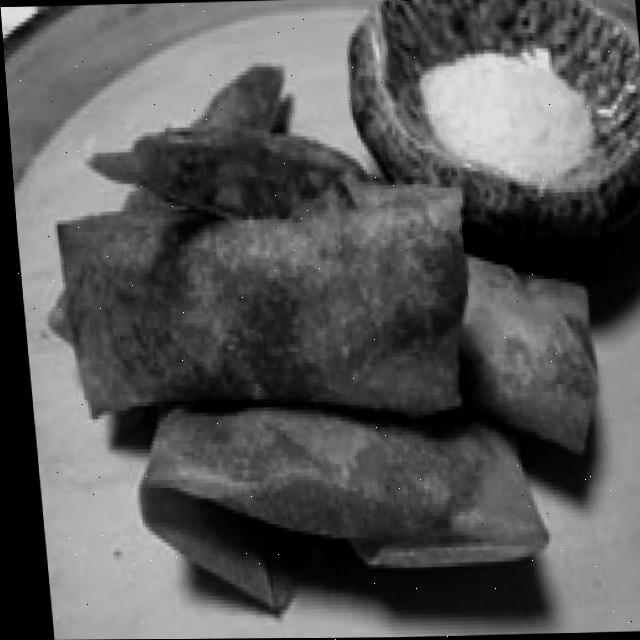鸡蛋料理: (21, 43, 615, 626)
